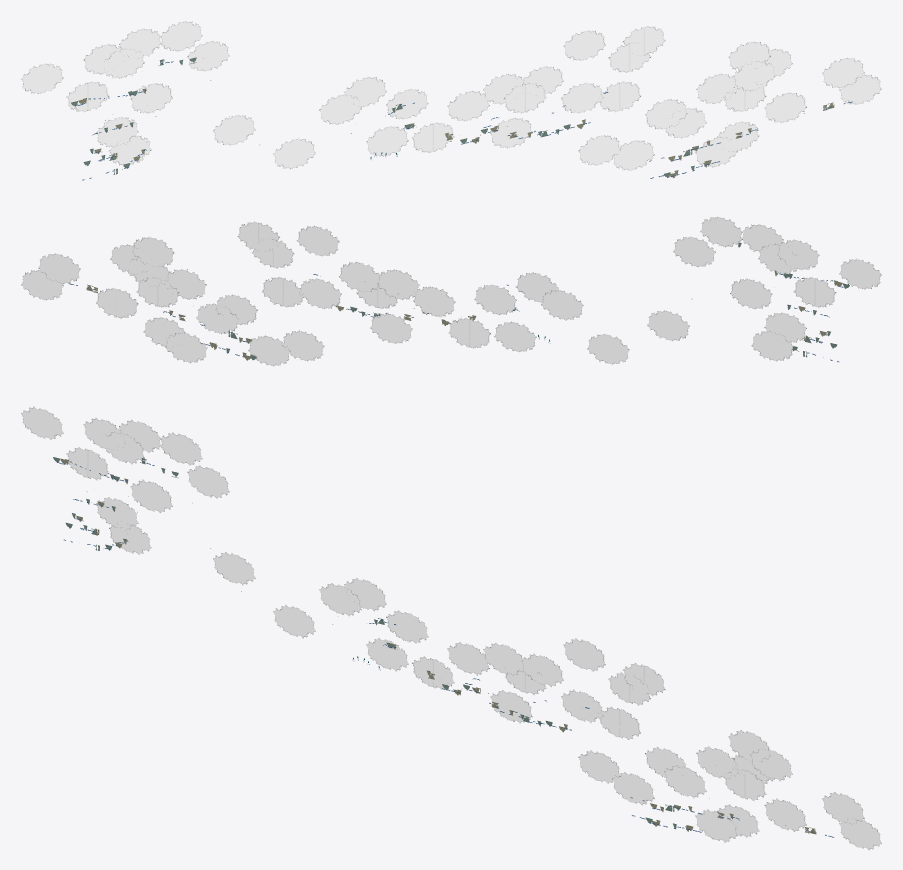
File: island02_bg.glb
3 renders of one model, top to bottom at view 1: azimuth 30°, elevation 25°; view 2: azimuth 150°, elevation 25°; view 3: azimuth 330°, elevation 25°, orthographic.
Parts seen in each view (by area): view 1: island02_bg; view 2: island02_bg; view 3: island02_bg.
Boxes of the visible parts, x1,y1,x2,y2 form: island02_bg: (21,21,881,180); island02_bg: (21,216,881,366); island02_bg: (21,406,881,850).
Bounding box in the file's own units: 7302 × 2224 × 135.
Materials: 9 (9 with a texture image).
